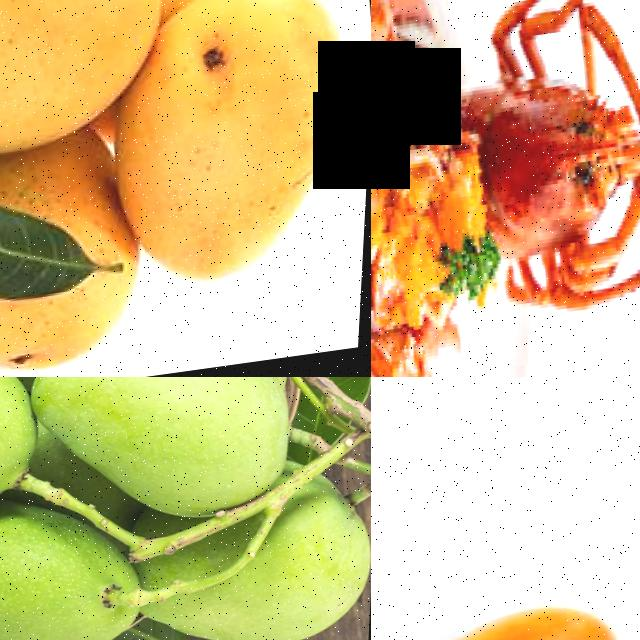lobster tails: (371, 39, 442, 363)
mango: (131, 0, 371, 291), (15, 377, 310, 536), (0, 0, 167, 171), (0, 498, 156, 640), (409, 594, 635, 640)
